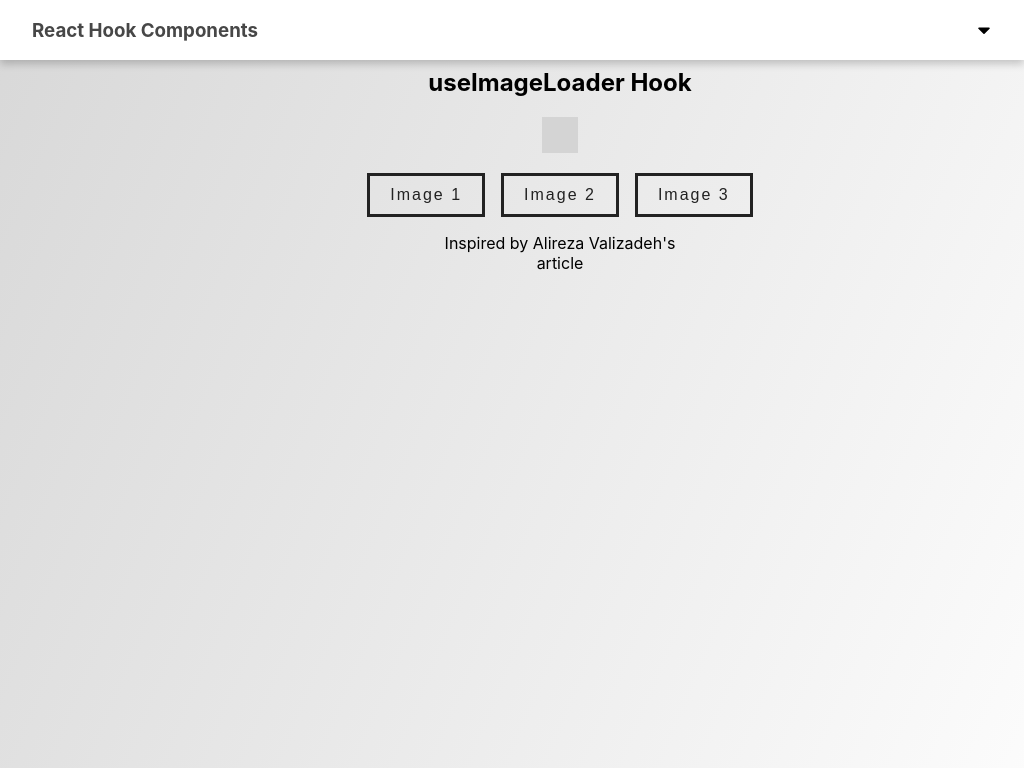
Test case: Menu › should close the menu when the Navbar button is clicked a second time
Click the list item with class "nav-item". click: (984, 30)
box: top-left (964, 10), bottom-right (1004, 50)
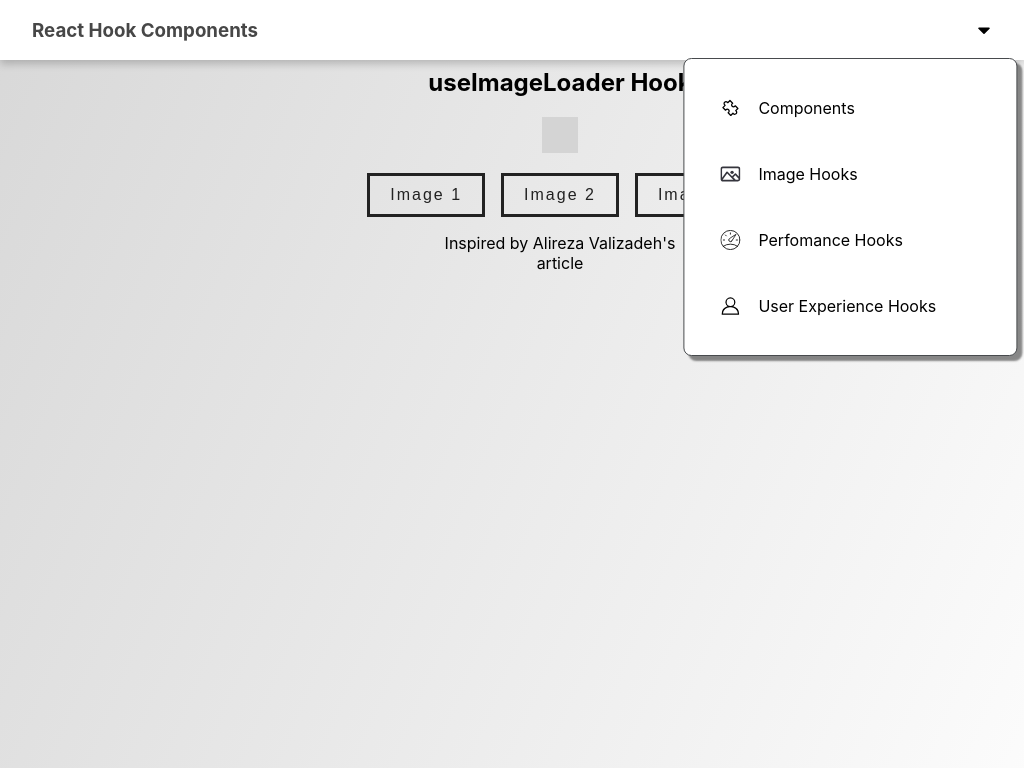
Result: the number of elements with class "dropdown" is 1 at top-left (683, 58), bottom-right (1017, 356)
Click the list item with class "nav-item". click: (984, 30)
box: top-left (960, 0), bottom-right (1008, 60)
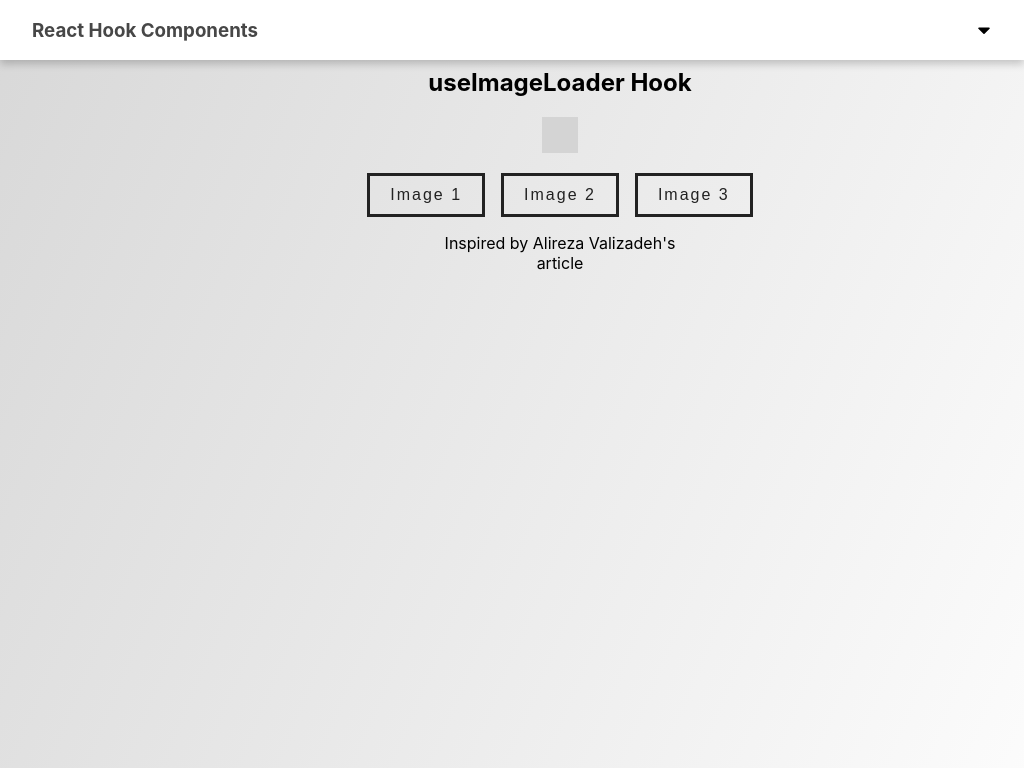
Result: no elements with class "dropdown" are shown
